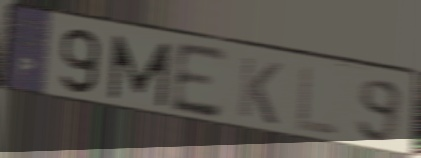9: (355, 77, 406, 144), (58, 28, 101, 95)
E: (169, 39, 231, 122)
K: (236, 53, 284, 128)
L: (294, 62, 341, 138)
M: (107, 32, 174, 110)
